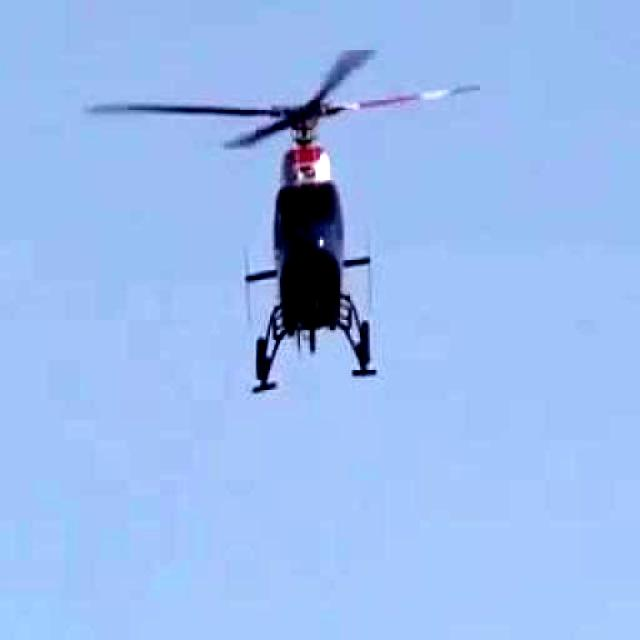drone: (129, 19, 489, 415)
